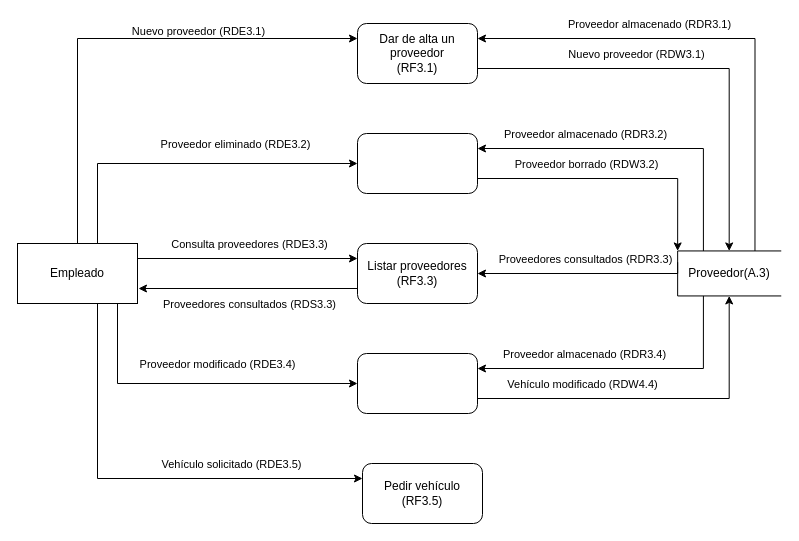
Image size: 799x541. Some labels were removed from this diagram. Each missing label, with the centre of its shape:
Dar de baja a un proveedor (RF3.2): the point at 417,163
Modificar proveedor (RF3.4): the point at 417,383
